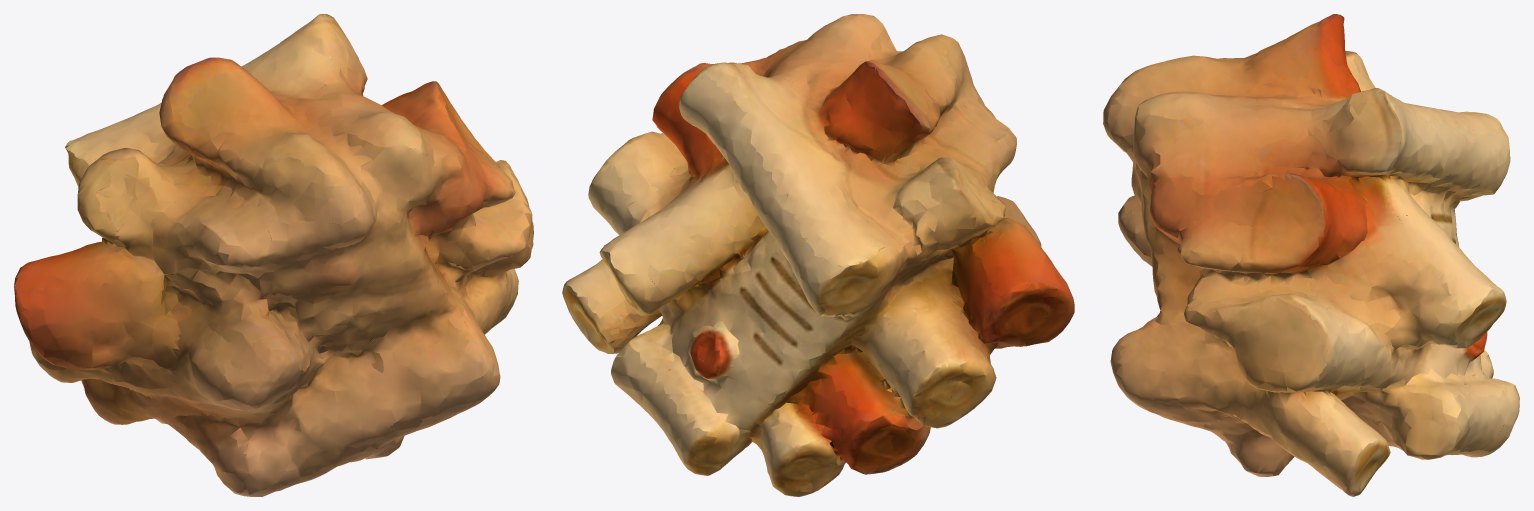
File: scrollpile_b.glb
3 renders of one model, left to right at view 1: azimuth 30°, elevation 25°; view 2: azimuth 150°, elevation 25°; view 3: azimuth 270°, elevation 25°, orthographic. The views are drawn at different scales.
Parts seen in each view (by area): view 1: world; view 2: world; view 3: world.
Boxes of the visible parts, x1,y1,x2,y2 form: world: [14, 14, 533, 496]; world: [562, 14, 1074, 496]; world: [1103, 14, 1519, 496].
Size of the model in its own units: 0.9486 by 0.7255 by 0.6757.
Materials: 1 (1 with a texture image).
